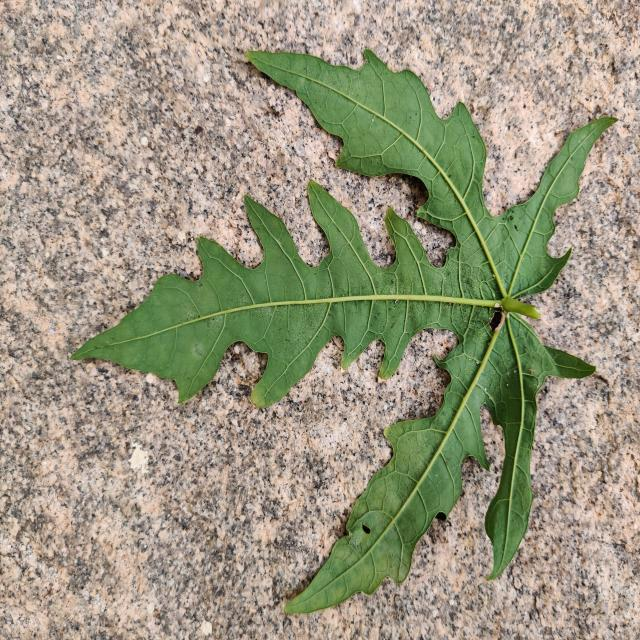papaya: (72, 50, 615, 613)
